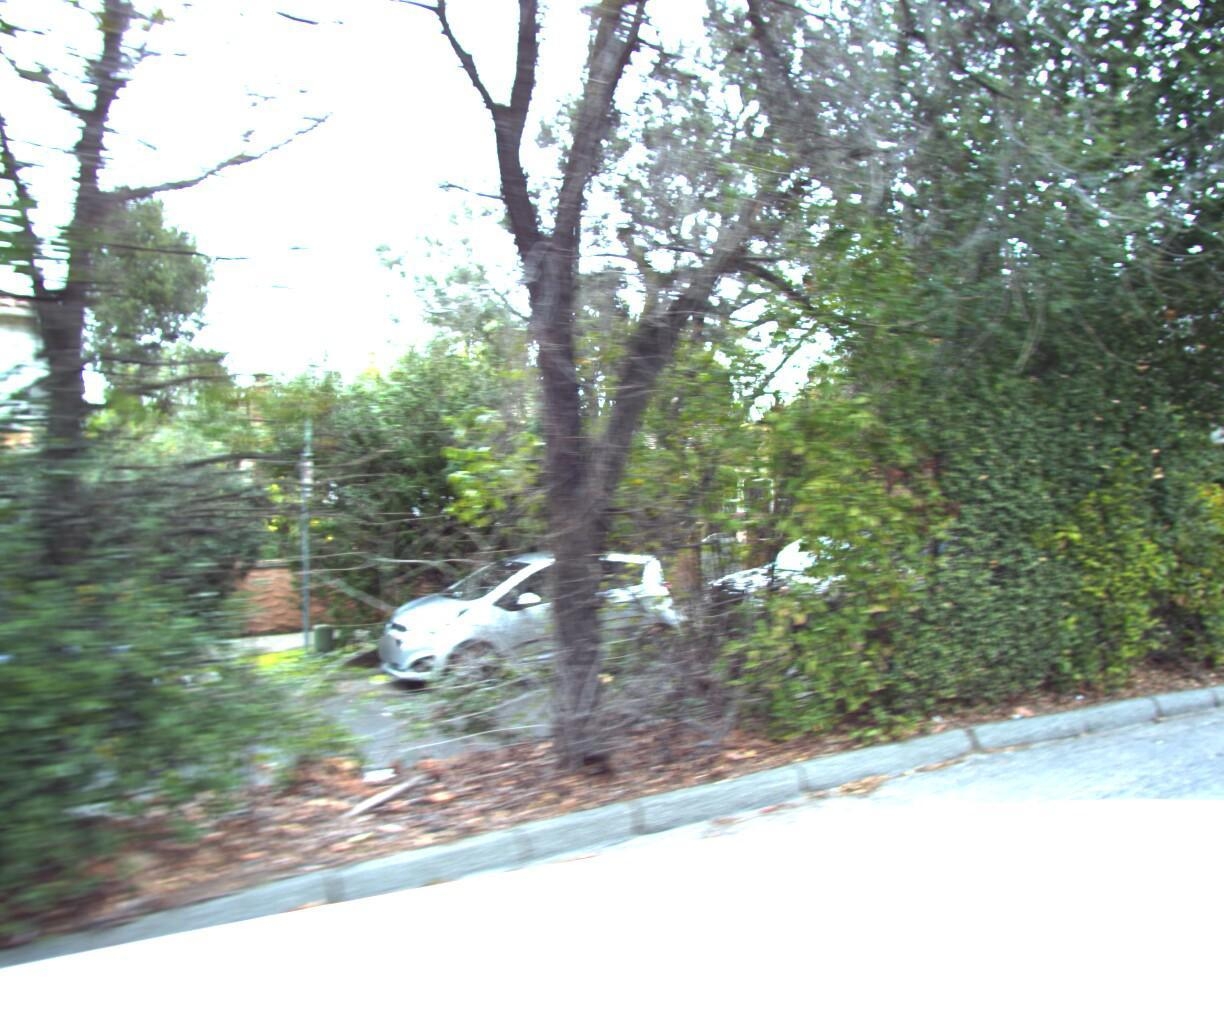car: (362, 540, 709, 724)
